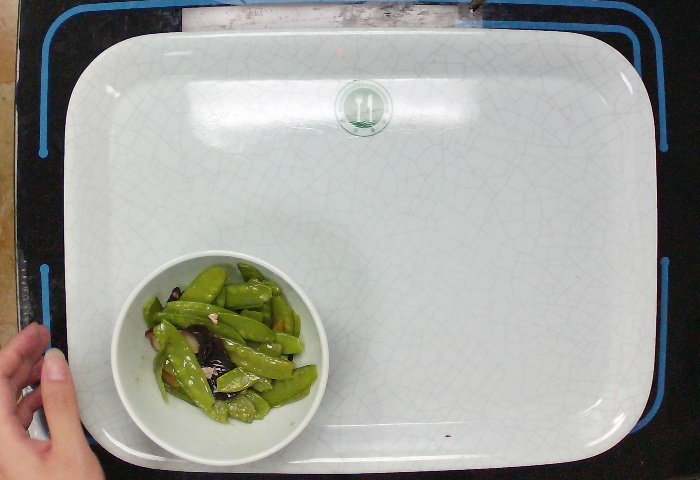JYsf-Fan_Wan: (107, 249, 331, 467)
